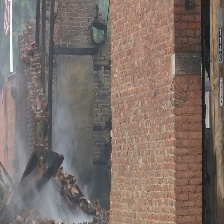smoke: (4, 103, 83, 222)
